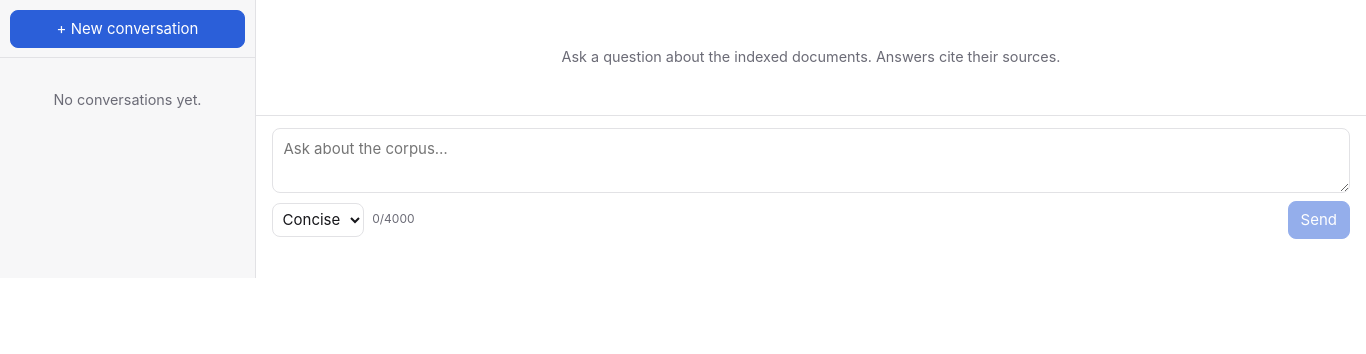
Scenario: ChatPage › surfaces a pre-stream 400 as the backend's message (FR-34)
Type "x" into the text box named "Message". click: (811, 160)
box: [272,128,1350,193]
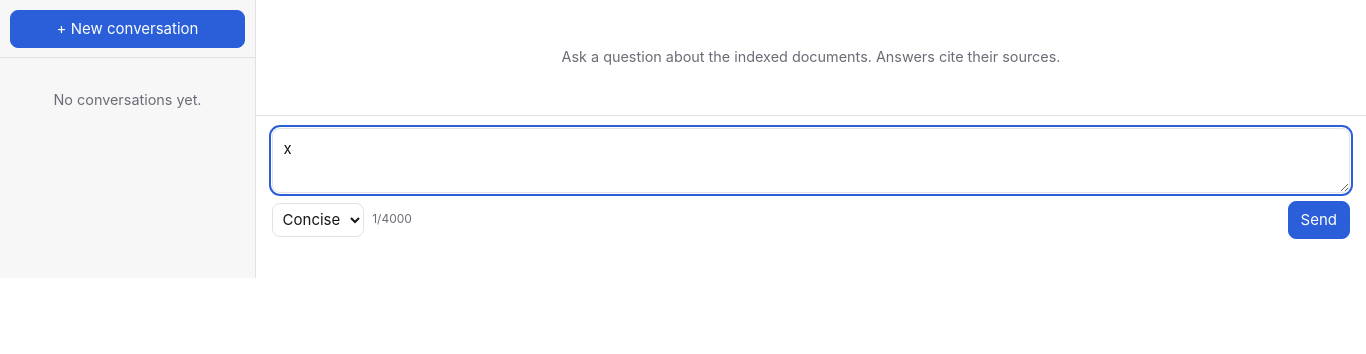
Click the button "Send". click: (1319, 220)
box: [1288,201,1350,239]
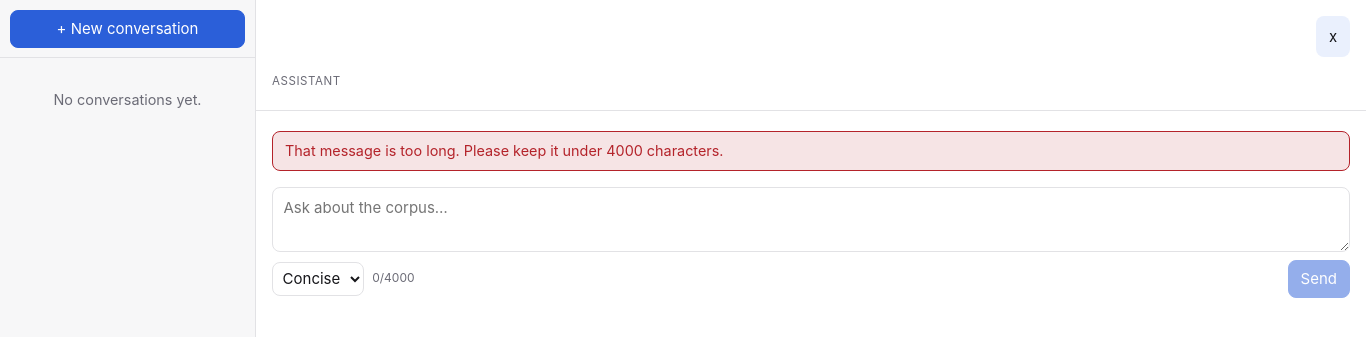
Now the message shows "too long", box [285,142,724,159]
